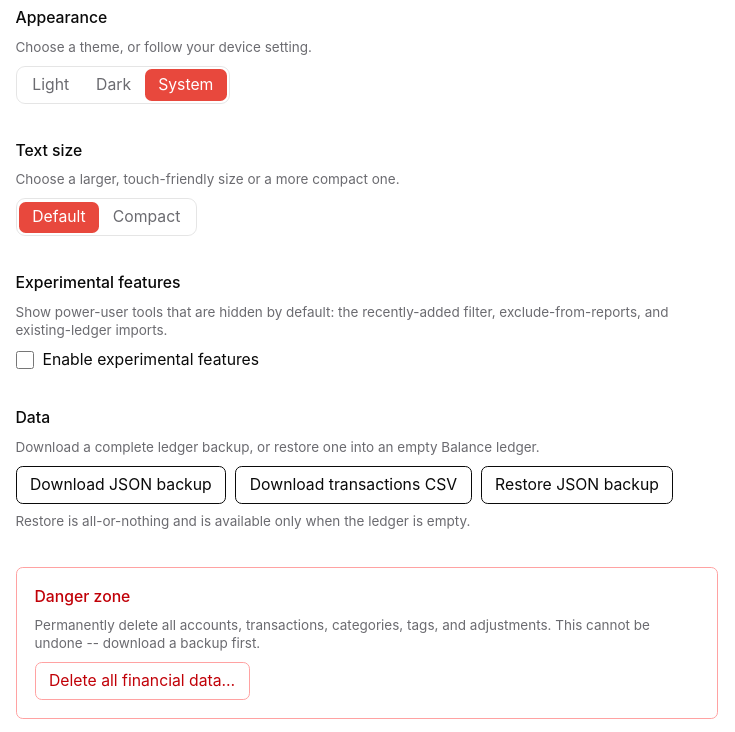
Household -- danger zone reset › requires typing the exact household name before deleting, then posts the confirm
(page scrolled)
# Open the danger flow.
Click the button "Delete all financial data…". click: (142, 681)
box: [34,662,250,700]
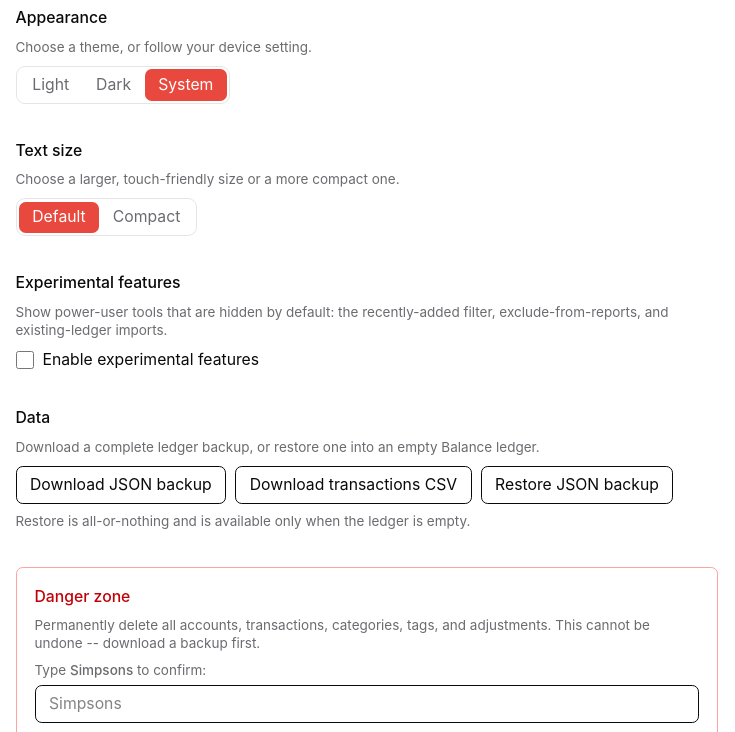
Type "wrong" into the field with placeholder "Simpsons". click: (366, 704)
box: [34,685,698,723]
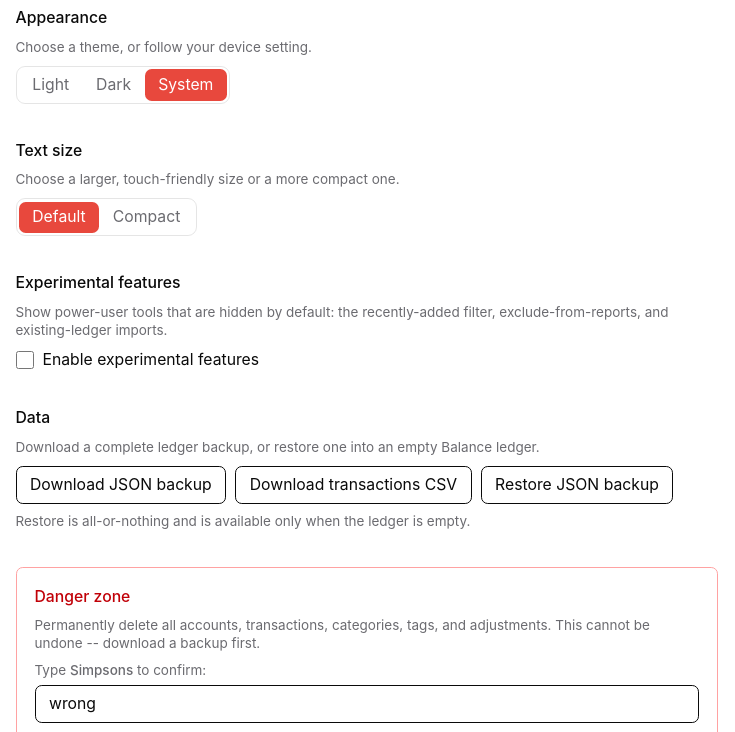
Replace the text in the field with placeholder "Simpsons" with "Simpsons". click: (366, 704)
box: [34,685,698,723]
(page scrolled)
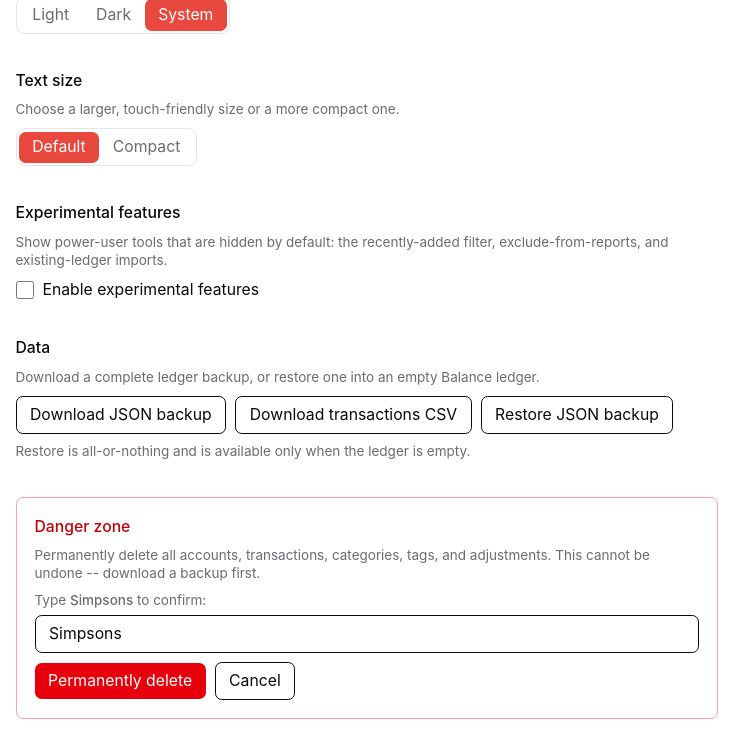
Check: the button "Permanently delete" is enabled
Click the button "Permanently delete". click: (120, 681)
box: [34,663,206,699]
(page scrolled)
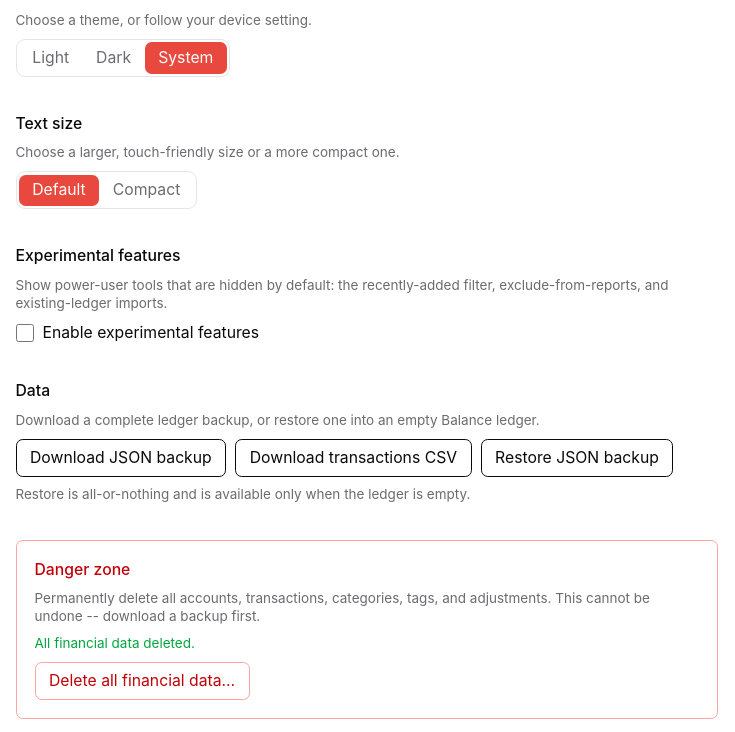
Check: the text "All financial data deleted." is shown, box [34,635,195,651]
